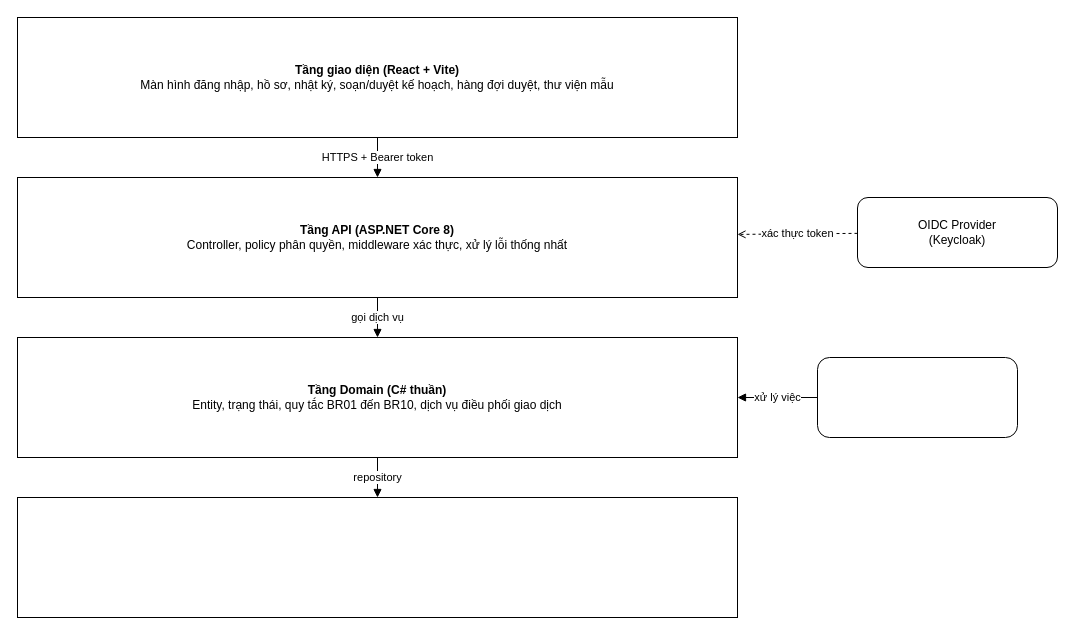
Image size: 1075x635. Some labels were removed from this diagram. The centre of each missing label's shape, as x and y in pixels:
"Tầng hạ tầng EF Core, repository, PostgreSQL, nhà cung cấp OIDC (Keycloak)" belongs at point 377,557.
"Worker nền (hàng đợi tự động)" belongs at point 917,397.
